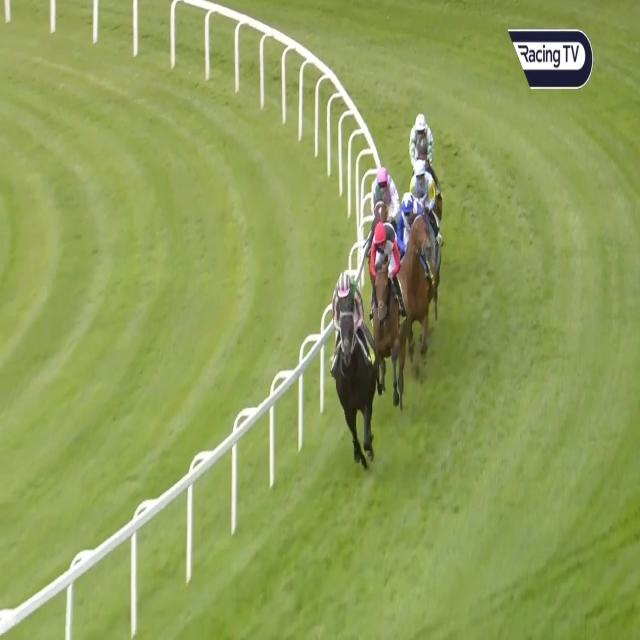horses-racing: (334, 272, 370, 461), (399, 191, 437, 360), (373, 226, 403, 398), (408, 109, 440, 167), (403, 161, 438, 210), (370, 163, 397, 221)
